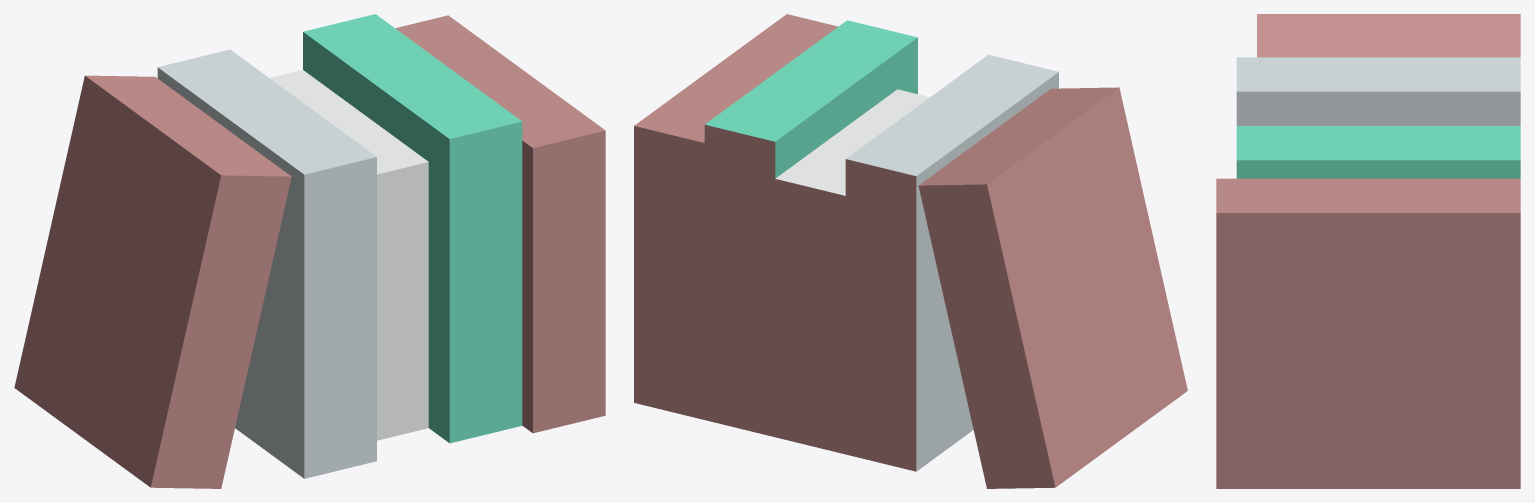
File: books.gltf
3 views of the same model, side by side, from view 1: azimuth 30°, elevation 25°; view 2: azimuth 150°, elevation 25°; view 3: azimuth 270°, elevation 25° (orthographic). The views are drawn at different scales.
Visible parts, largest first — view 1: books(Clone); view 2: books(Clone); view 3: books(Clone).
Boxes of the visible parts, x1,y1,x2,y2 form: books(Clone): (14,14,605,488); books(Clone): (634,14,1187,488); books(Clone): (1216,14,1520,488).
Size of the model in its own units: 0.1504 by 0.1039 by 0.0945.
